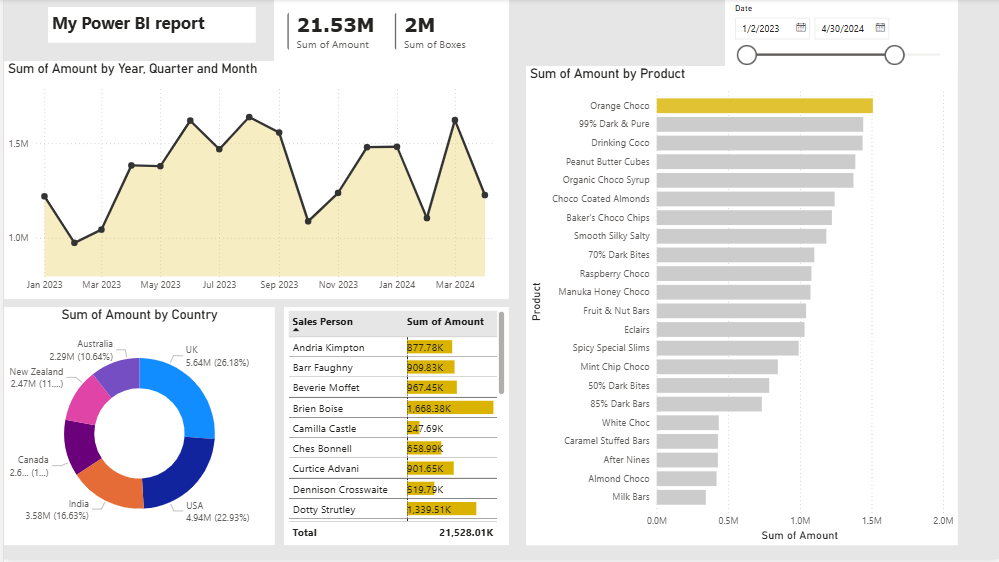

This screenshot's page, from the dashboard's own definition file:
{"tool":"powerbi","page":{"name":"Page 2","canvas":[1280,720],"ordinal":1},"visuals":[{"type":"lineChart","fields":{"Category":["data.Date.Variation.Date Hierarchy.Year","data.Date.Variation.Date Hierarchy.Quarter","data.Date.Variation.Date Hierarchy.Month","data.Date.Variation.Date Hierarchy.Day"],"Y":["data.Amount"]},"box":[0,79.7,649,305.9],"z":0},{"type":"donutChart","fields":{"Category":["data.Country"],"Y":["data.Amount"]},"box":[0,395.8,348.3,305.9],"z":1000},{"type":"tableEx","fields":{"Values":["data.Sales Person","data.Amount"]},"box":[359.8,395.8,289.2,305.9],"z":2000},{"type":"clusteredBarChart","fields":{"Category":["data.Product"],"Y":["data.Amount"]},"box":[670.8,86.1,555.2,615.6],"z":3000},{"type":"cardVisual","fields":{"Data":["data.Amount","data.Boxes"]},"box":[347,0,302,83.5],"z":3001},{"type":"slicer","fields":{"Values":["data.Date"]},"box":[926.6,0,299.4,88.7],"z":3002},{"type":"textbox","box":[56.5,10.3,267.3,46.3],"z":3003}]}

Visuals, with their boxes in screenshot pixels (x1, y1, x2, y2), scaled from the page's 1280x720 canvas onto the 999x562 screenshot:
lineChart - data.Date.Variation.Date Hierarchy.Year x data.Date.Variation.Date Hierarchy.Quarter: [x1=0, y1=62, x2=507, y2=301]
donutChart - data.Country x data.Amount: [x1=0, y1=309, x2=272, y2=548]
tableEx - data.Sales Person x data.Amount: [x1=281, y1=309, x2=507, y2=548]
clusteredBarChart - data.Product x data.Amount: [x1=524, y1=67, x2=957, y2=548]
cardVisual - data.Amount x data.Boxes: [x1=271, y1=0, x2=507, y2=65]
slicer - data.Date: [x1=723, y1=0, x2=957, y2=69]
textbox: [x1=44, y1=8, x2=253, y2=44]
